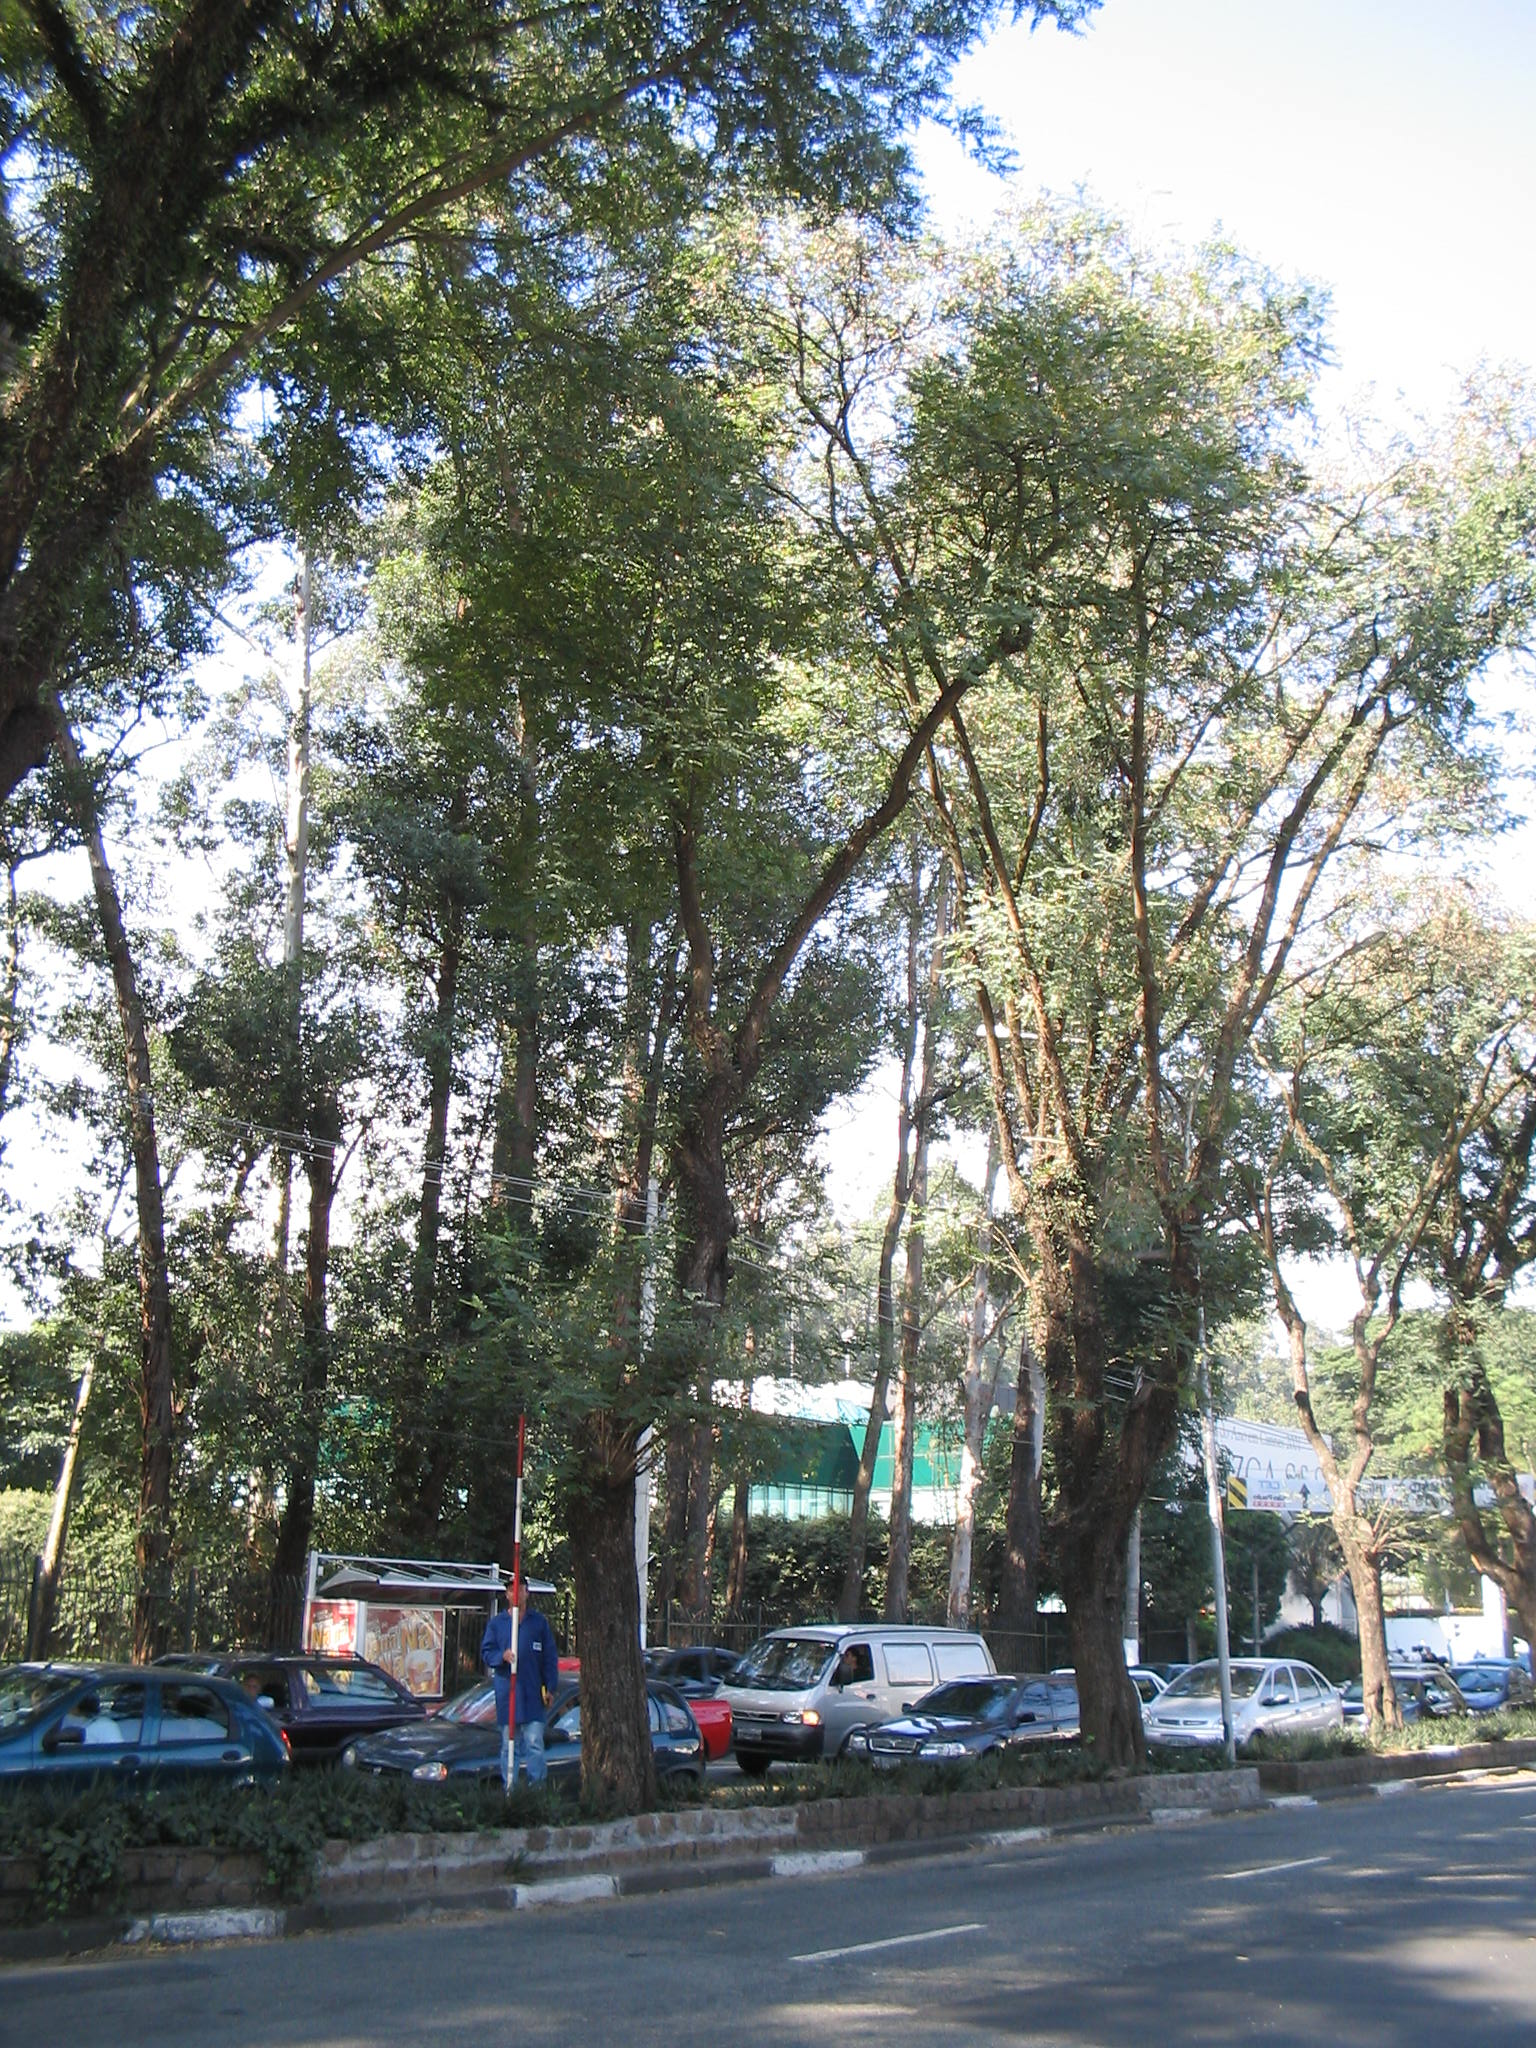crown: (290, 147, 1310, 868), (778, 211, 1531, 895)
stem: (541, 1461, 691, 1817), (1041, 1479, 1170, 1774)
stick: (481, 1411, 545, 1808)
tree: (281, 137, 1320, 1825), (765, 203, 1528, 1782)
